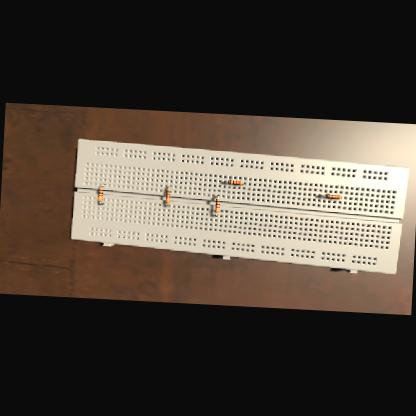breadboard: (69, 138, 410, 275)
resistor: (325, 192, 341, 198), (228, 178, 243, 184), (214, 198, 220, 212), (98, 187, 104, 200), (165, 188, 170, 202)
wire: (318, 194, 326, 196), (101, 184, 105, 187), (224, 180, 227, 182), (242, 182, 244, 184), (169, 186, 171, 188), (167, 203, 169, 205), (100, 200, 102, 202)
